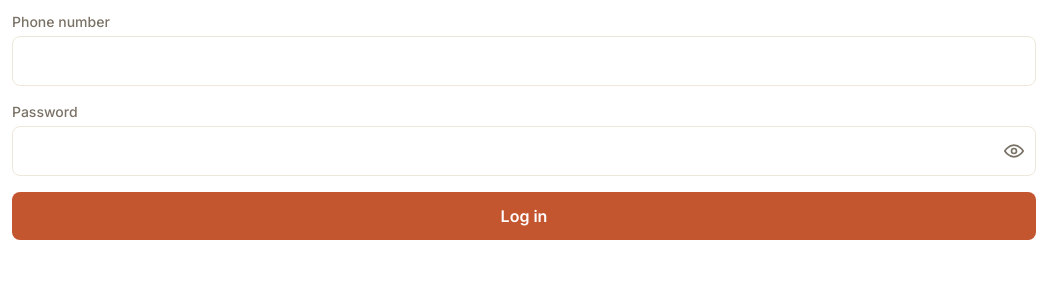
LoginForm › shows an error when submitted empty
Click the button "Log in": [524, 216] box [12,192,1036,240]
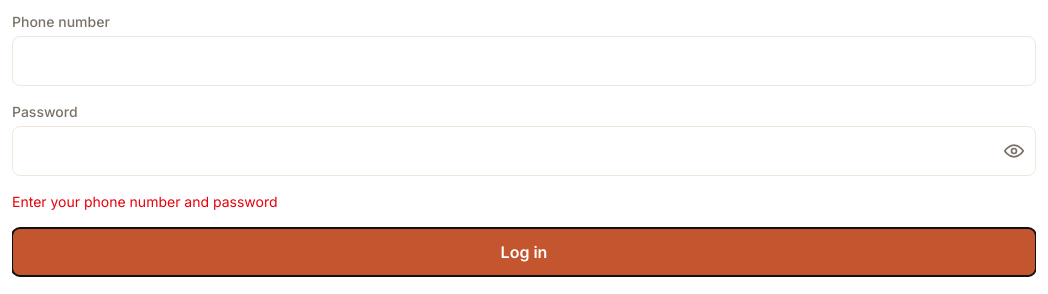
Expected: the message reads "Enter your phone number and password", [12,193,278,210]
